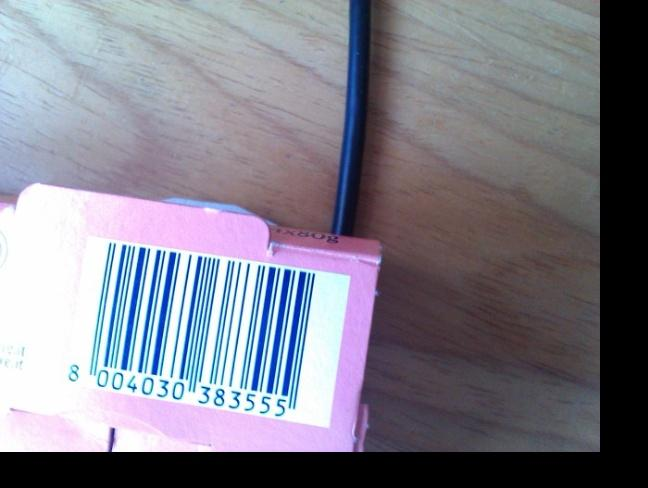Barcode: (62, 236, 320, 421)
